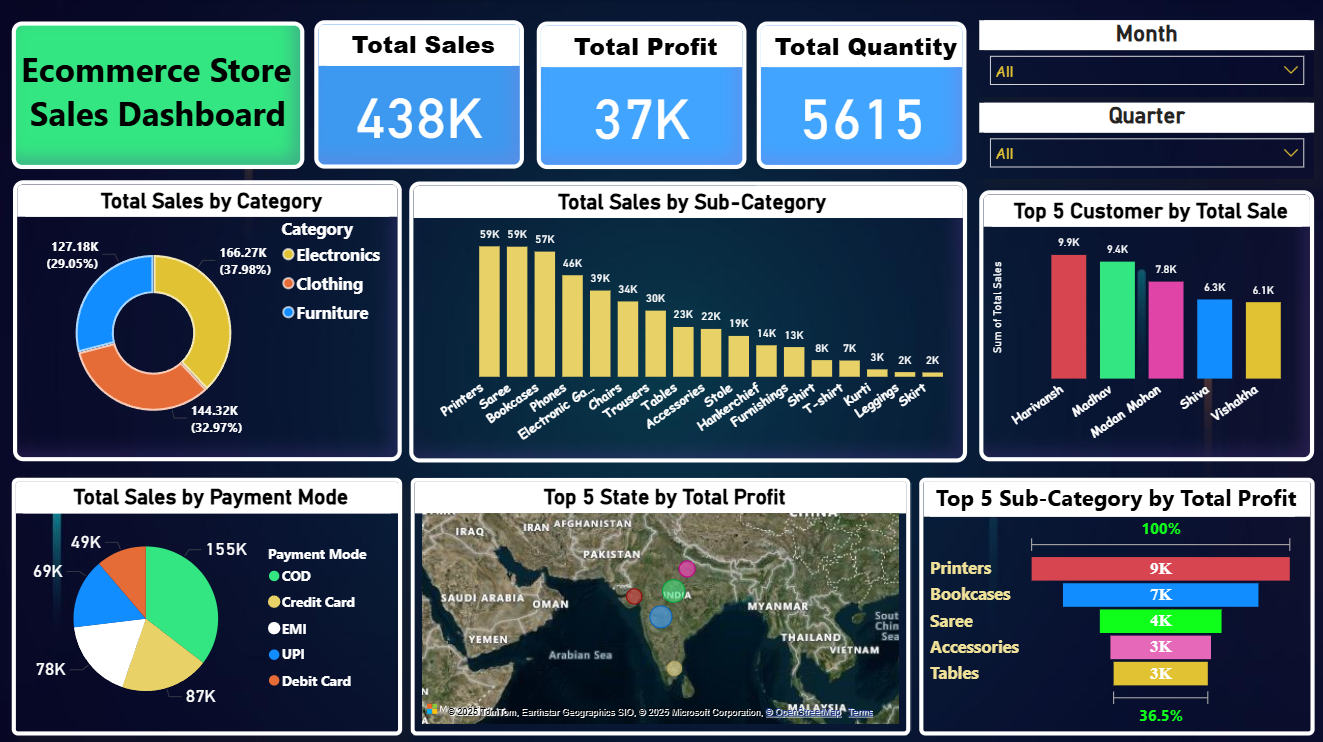

This screenshot's page, from the dashboard's own definition file:
{"tool":"powerbi","page":{"name":"Page 1","canvas":[1280,720],"ordinal":0},"visuals":[{"type":"textbox","box":[13.3,21.7,282.3,142.4],"z":0},{"type":"card","title":"Total Sales","fields":{"Values":["details.Total Sales"]},"box":[305.2,20.5,202.7,143.6],"z":1000},{"type":"card","title":"Total Profit","fields":{"Values":["details.Profit"]},"box":[520,21.7,202.7,142.4],"z":2000},{"type":"card","title":"Total Quantity","fields":{"Values":["details.Quantity"]},"box":[732.3,21.7,202.7,142.4],"z":3000},{"type":"slicer","title":"Month","fields":{"Values":["orders.Order Date.Variation.Date Hierarchy.Month"]},"box":[947.1,20.5,323.3,73.6],"z":4000},{"type":"slicer","title":"Quarter","fields":{"Values":["orders.Order Date.Variation.Date Hierarchy.Quarter"]},"box":[947.1,100.1,323.3,73.6],"z":5000},{"type":"donutChart","title":"Total Sales by Category","fields":{"Y":["details.Total Sales"],"Category":["details.Category"]},"box":[14.5,174.9,375.2,271.4],"z":6000},{"type":"clusteredColumnChart","fields":{"Y":["details.Total Sales"],"Category":["details.Sub-Category"]},"box":[396.9,176.1,538.1,271.4],"z":7000},{"type":"clusteredColumnChart","title":"Top 5 Customer by Total Sale","fields":{"Category":["orders.CustomerName"],"Y":["details.Total Sales"]},"box":[947.1,184.6,323.3,261.8],"z":8000},{"type":"pieChart","title":"Total Sales by Payment Mode","fields":{"Y":["details.Total Sales"],"Category":["details.PaymentMode"]},"box":[13.3,462.1,376.4,248.5],"z":9000},{"type":"map","title":"Top 5 State by Total Profit","fields":{"Category":["orders.State"],"Size":["details.Profit"]},"box":[398.1,462.1,482.6,248.5],"z":10000},{"type":"funnel","title":"Top 5 Sub-Category by Total Profit","fields":{"Category":["details.Sub-Category"],"Y":["details.Profit"]},"box":[889.1,462.1,381.2,248.5],"z":11000}]}

Visuals, with their boxes in screenshot pixels (x1, y1, x2, y2), scaled from the page's 1280x720 canvas onto the 1323x742 screenshot:
textbox: l=14, t=22, r=306, b=169
"Total Sales" card: l=315, t=21, r=525, b=169
"Total Profit" card: l=537, t=22, r=747, b=169
"Total Quantity" card: l=757, t=22, r=966, b=169
"Month" slicer: l=979, t=21, r=1313, b=97
"Quarter" slicer: l=979, t=103, r=1313, b=179
"Total Sales by Category" donutChart: l=15, t=180, r=403, b=460
clusteredColumnChart - details.Total Sales x details.Sub-Category: l=410, t=181, r=966, b=461
"Top 5 Customer by Total Sale" clusteredColumnChart: l=979, t=190, r=1313, b=460
"Total Sales by Payment Mode" pieChart: l=14, t=476, r=403, b=732
"Top 5 State by Total Profit" map: l=411, t=476, r=910, b=732
"Top 5 Sub-Category by Total Profit" funnel: l=919, t=476, r=1313, b=732
